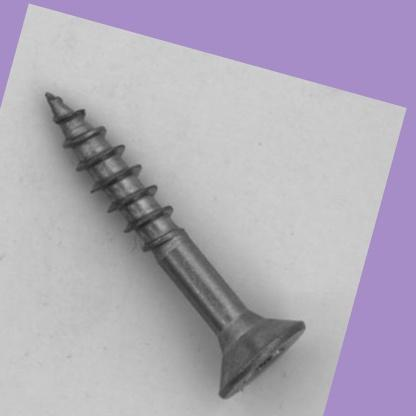metal: (43, 90, 305, 398)
